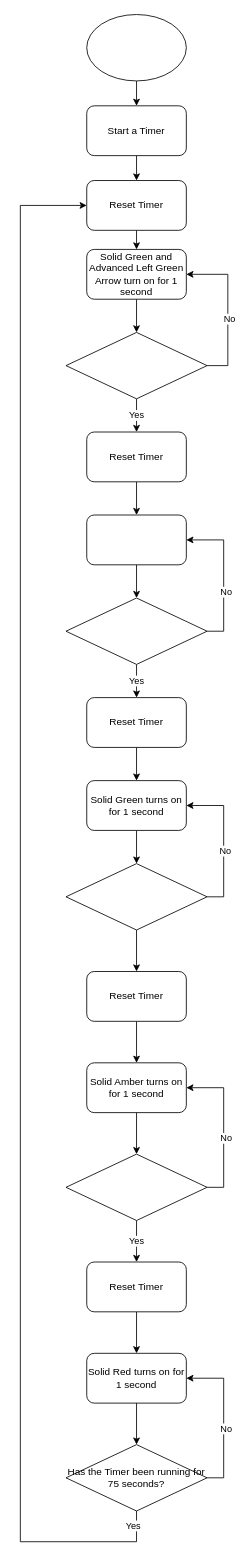
This 249x1563 diagram has some shape labels left out. The centre of each missing label's shape, as x and y in pixels:
Has the Timer been running for 10 seconds?: (x=136, y=1187)
Has the Timer been running for 15 seconds?: (x=136, y=365)
Has the Timer been running for 45 seconds?: (x=136, y=896)
Has the Timer been running for 5 seconds?: (x=136, y=630)
Solid Green and Advanced Left Amber Arrow turn on for 1 second: (x=136, y=539)
Start: (x=136, y=47)
